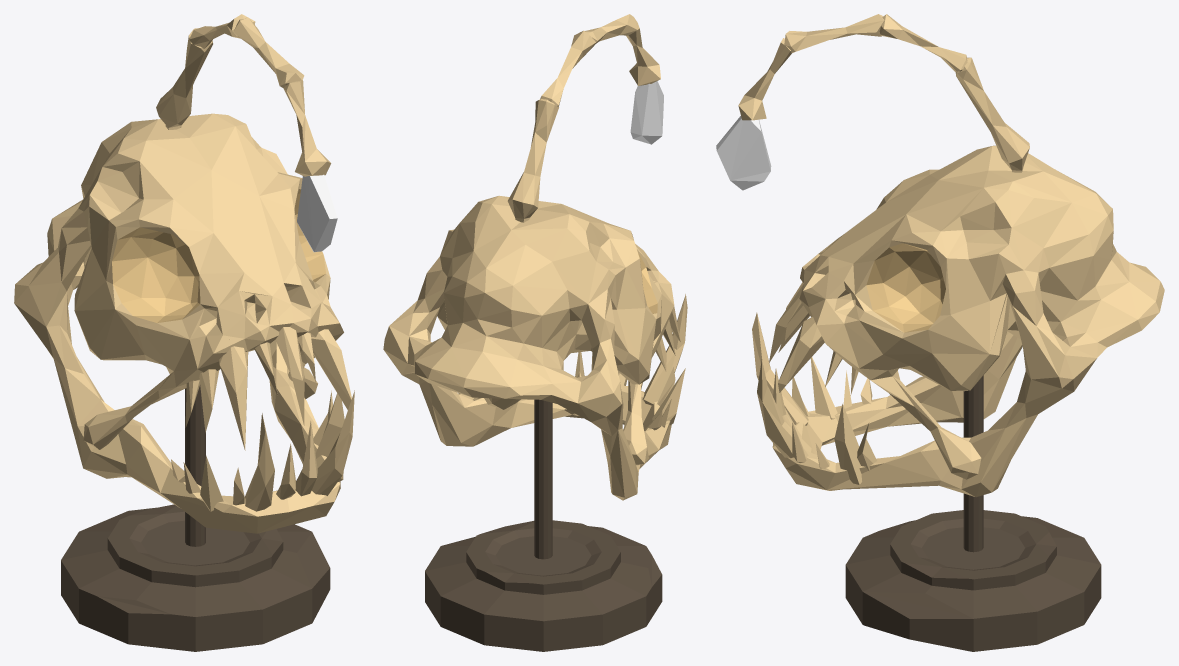
File: Fish_Head_Stand_003.fbx
3 renders of one model, left to right at view 1: azimuth 30°, elevation 25°; view 2: azimuth 150°, elevation 25°; view 3: azimuth 270°, elevation 25°, orthographic. The views are drawn at different scales.
Parts seen in each view (by area): view 1: Fish_Head_Stand_003; view 2: Fish_Head_Stand_003; view 3: Fish_Head_Stand_003.
Boxes of the visible parts, x1,y1,x2,y2 form: Fish_Head_Stand_003: [14, 14, 354, 651]; Fish_Head_Stand_003: [383, 14, 687, 651]; Fish_Head_Stand_003: [716, 14, 1164, 651].
Size of the model in its own units: 0.4489 by 0.9748 by 0.6791.
